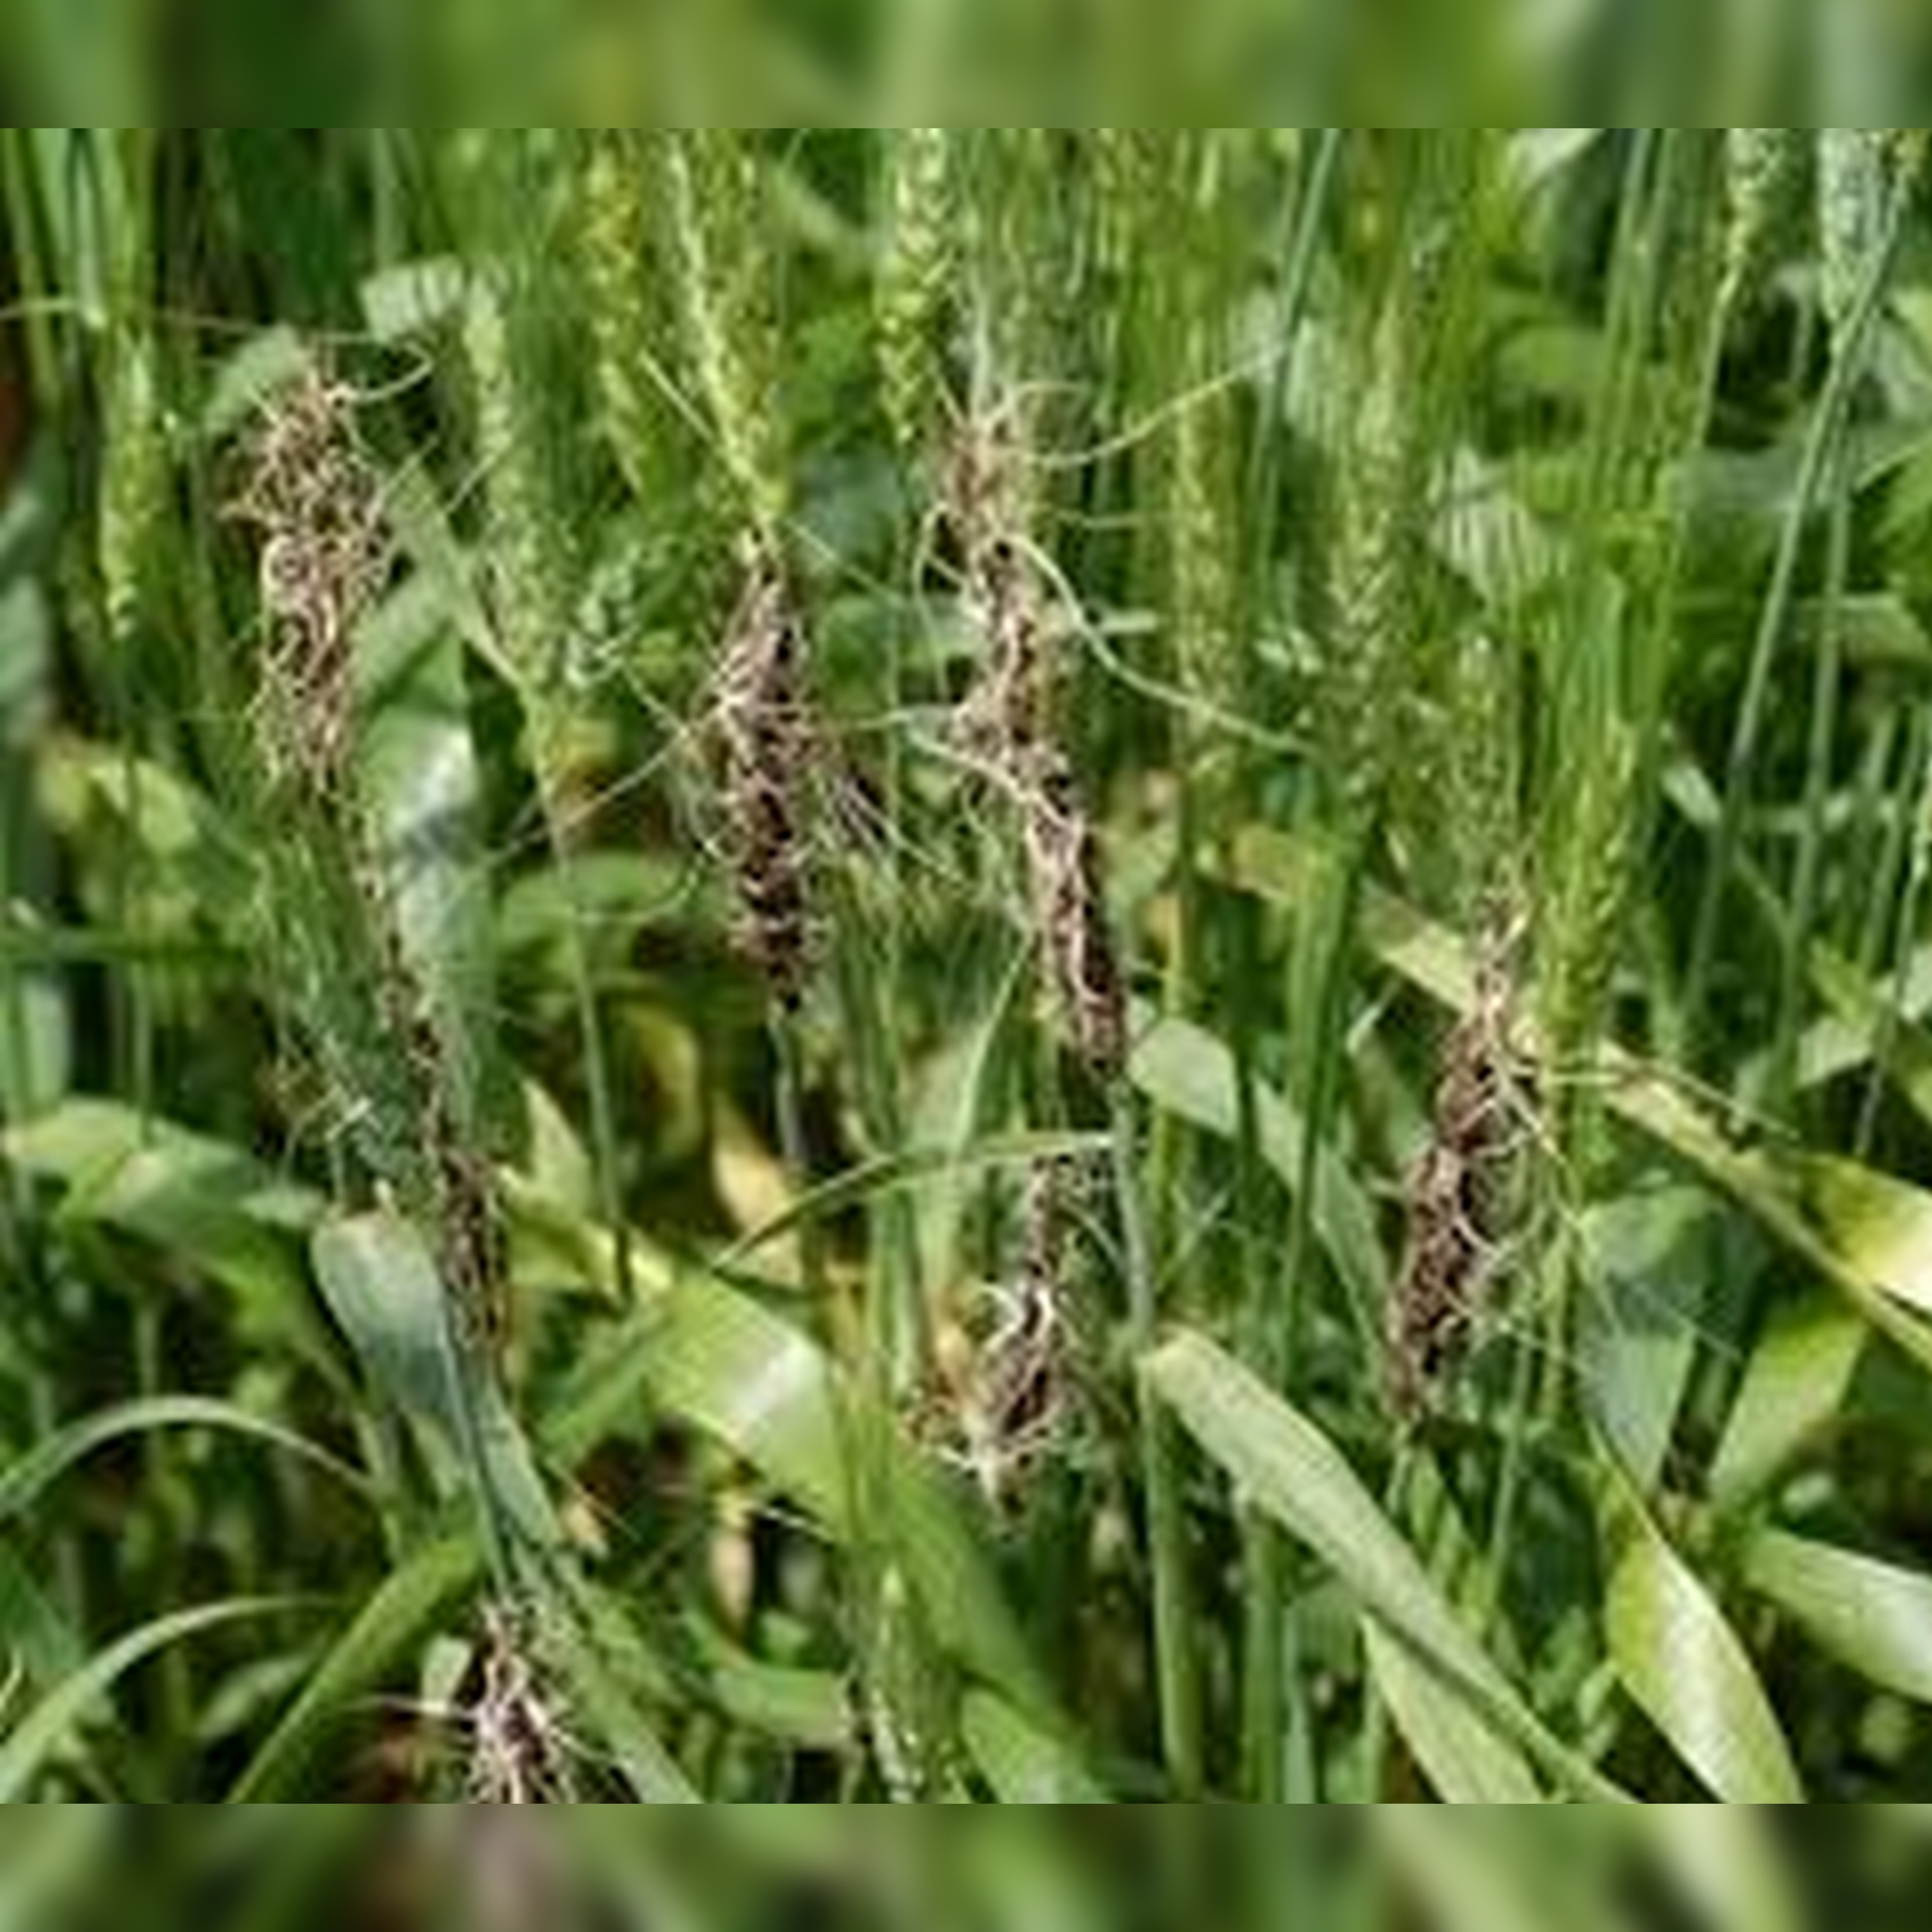Wheat Loose Smut: (660, 478, 1178, 1100)
